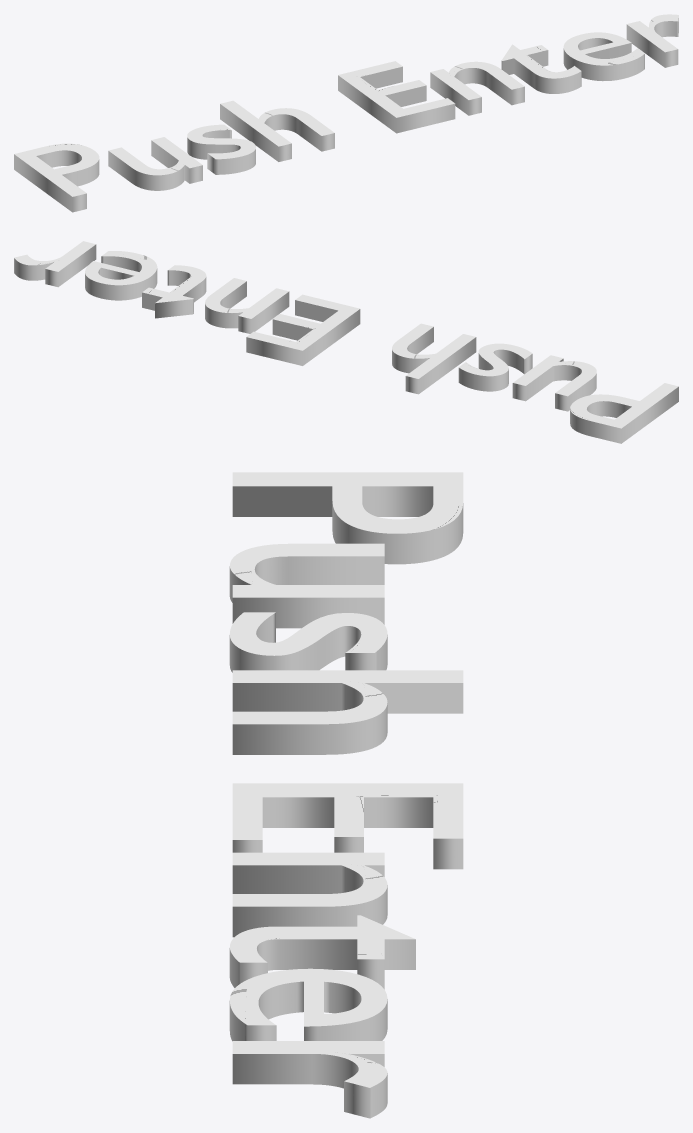
The model's file is Enter.obj.
3 views of the same model, one above another, from view 1: azimuth 30°, elevation 25°; view 2: azimuth 150°, elevation 25°; view 3: azimuth 270°, elevation 25° (orthographic). The views are drawn at different scales.
Visible parts, largest first — view 1: テキスト; view 2: テキスト; view 3: テキスト.
Part boxes in pixels (x1=…): テキスト: x1=14, y1=14, x2=678, y2=212; テキスト: x1=14, y1=241, x2=678, y2=443; テキスト: x1=229, y1=472, x2=463, y2=1118.
Size of the model in its own units: 4.31 by 0.1 by 0.691.
Materials: 1 (1 with a texture image).
